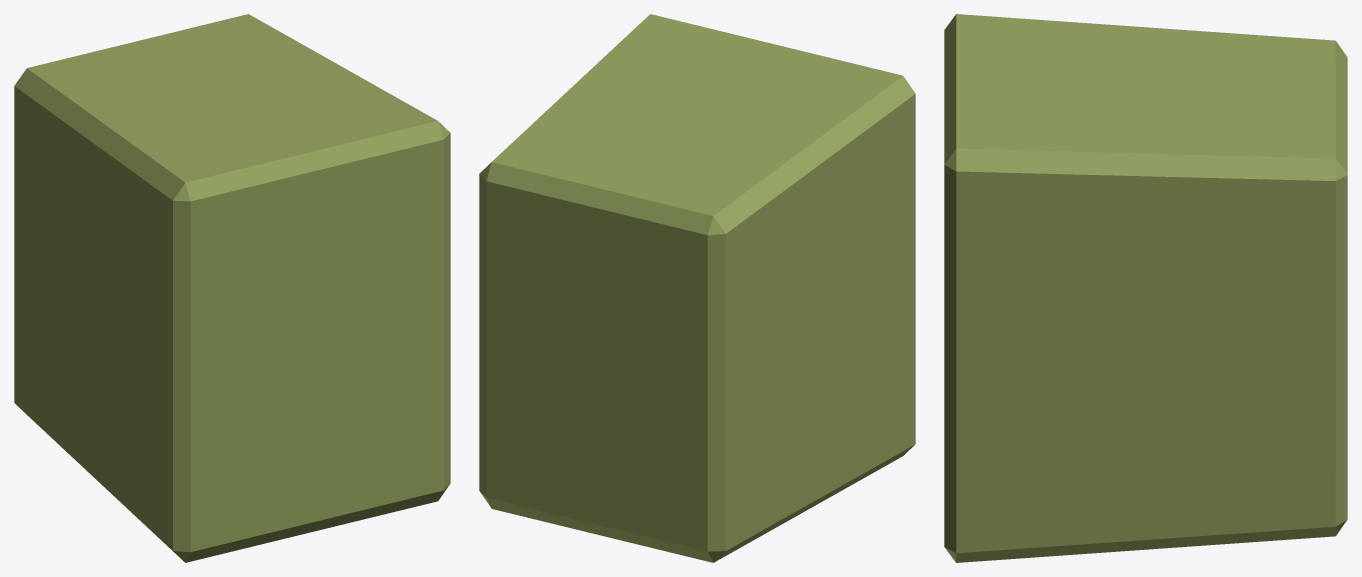
File: Bathroom_Box03.fbx
3 renders of one model, left to right at view 1: azimuth 30°, elevation 25°; view 2: azimuth 150°, elevation 25°; view 3: azimuth 270°, elevation 25°, orthographic. The views are drawn at different scales.
Visible parts, largest first — view 1: pCube28; view 2: pCube28; view 3: pCube28.
Part boxes in pixels (left/top/right/bottom): pCube28: left=14, top=14, right=450, bottom=562; pCube28: left=479, top=14, right=915, bottom=562; pCube28: left=944, top=14, right=1347, bottom=562.
Size of the model in its own units: 1.59 by 2.08 by 1.83.
